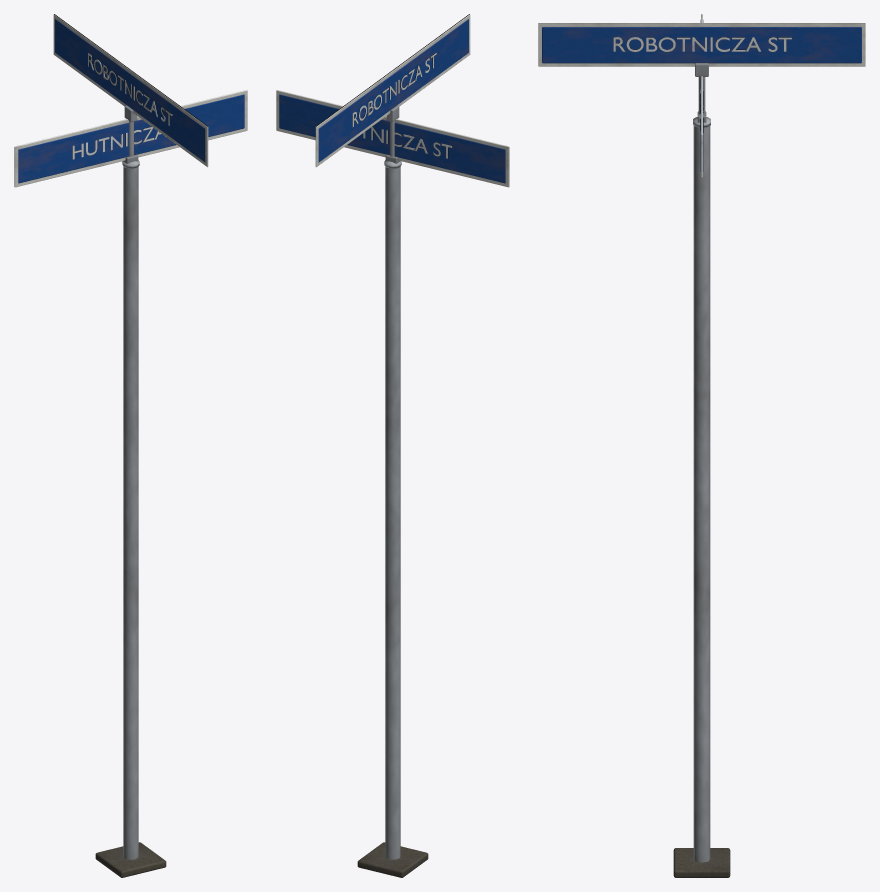
File: znak_ulica_a.glb
3 views of the same model, side by side, from view 1: azimuth 30°, elevation 25°; view 2: azimuth 150°, elevation 25°; view 3: azimuth 270°, elevation 25° (orthographic). The views are drawn at different scales.
Parts seen in each view (by area): view 1: Tarcza, Slupek; view 2: Tarcza, Slupek; view 3: Slupek, Tarcza.
Part boxes in pixels (x1,y1,x2,y2): Tarcza: (14,14,247,187); Slupek: (95,105,166,877); Tarcza: (276,14,509,187); Slupek: (357,105,428,877); Slupek: (673,63,730,877); Tarcza: (538,14,865,177).
Bounding box in the file's own units: 1.01 × 3.3 × 1.16.
Materials: 2 (2 with a texture image).
